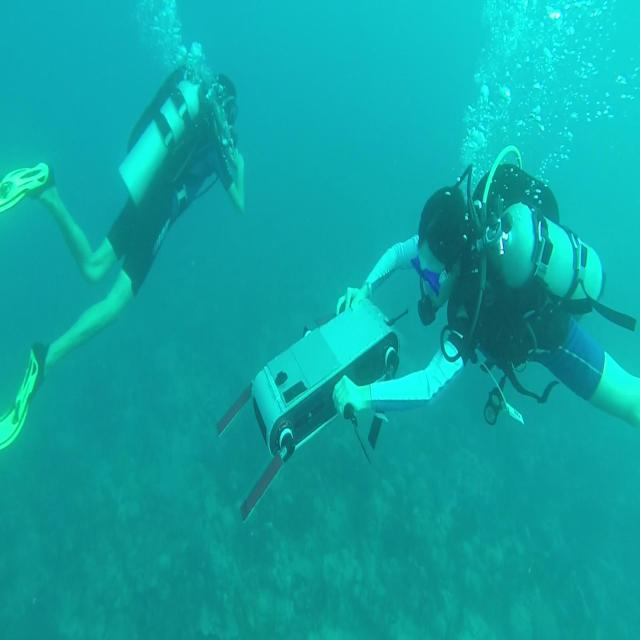human: (1, 42, 245, 450), (332, 151, 638, 442)
